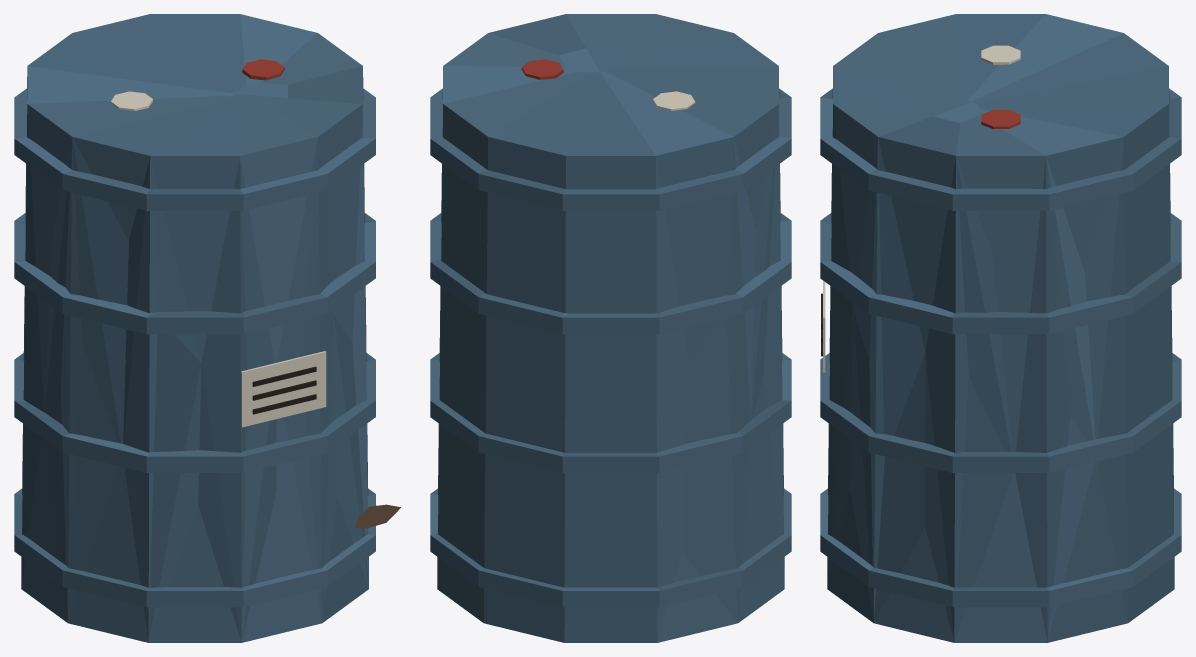
File: barrel_water_plastikovaya_200_l_idle.glb
3 renders of one model, left to right at view 1: azimuth 30°, elevation 25°; view 2: azimuth 150°, elevation 25°; view 3: azimuth 270°, elevation 25°, orthographic.
Parts seen in each view (by area): view 1: barrel_water_plastikovaya_200_l_idle; view 2: barrel_water_plastikovaya_200_l_idle; view 3: barrel_water_plastikovaya_200_l_idle.
Boxes of the visible parts, x1=… form: barrel_water_plastikovaya_200_l_idle: x1=14, y1=14, x2=400, y2=642; barrel_water_plastikovaya_200_l_idle: x1=430, y1=14, x2=791, y2=642; barrel_water_plastikovaya_200_l_idle: x1=820, y1=14, x2=1181, y2=642.
Bounding box in the file's own units: 0.595 × 0.88 × 0.595.
Materials: 1 (1 with a texture image).
